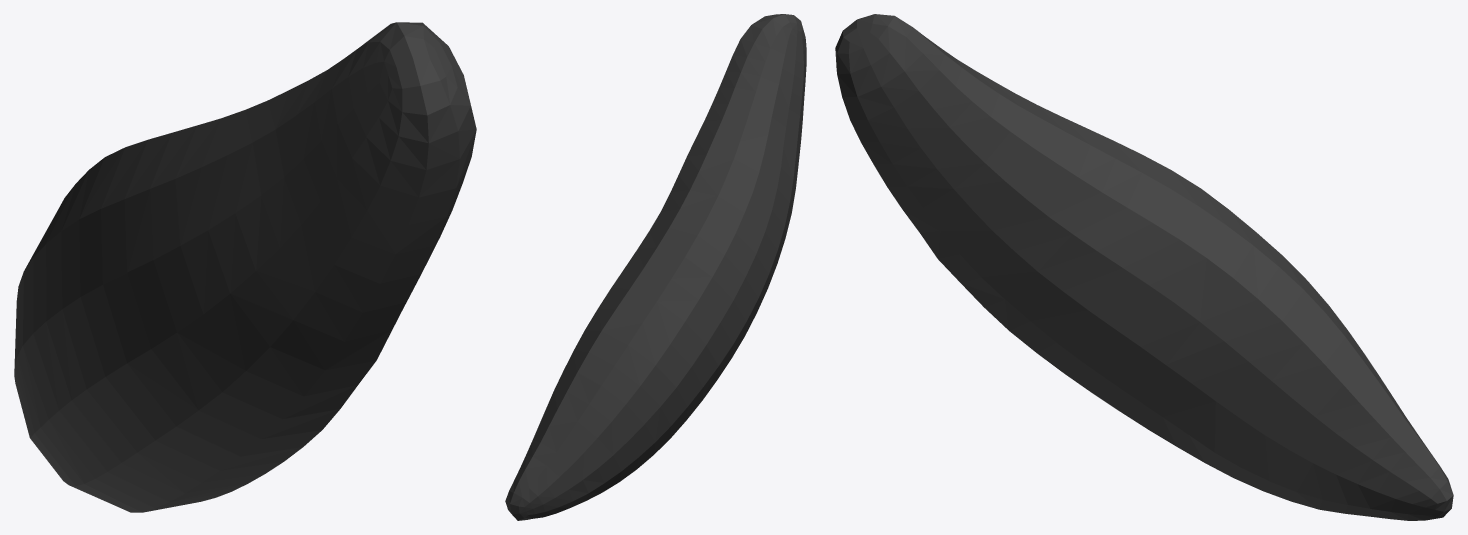
The model's file is Medial.glb.
The picture shows the model from 3 angles, left to right: view 1: azimuth 30°, elevation 25°; view 2: azimuth 150°, elevation 25°; view 3: azimuth 270°, elevation 25°; orthographic projection. The views are drawn at different scales.
Visible parts, largest first — view 1: Medial; view 2: Medial; view 3: Medial.
Boxes of the visible parts, left/top/right/bottom form: Medial: left=14, top=22, right=476, bottom=512; Medial: left=505, top=14, right=806, bottom=520; Medial: left=835, top=14, right=1453, bottom=520.
Bounding box in the file's own units: 11.11 × 32.43 × 38.15.
Materials: 1 (1 with a texture image).
